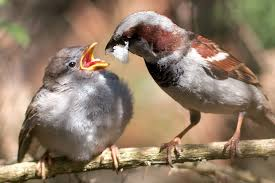hsparrow: (103, 10, 274, 163), (21, 42, 136, 176)
